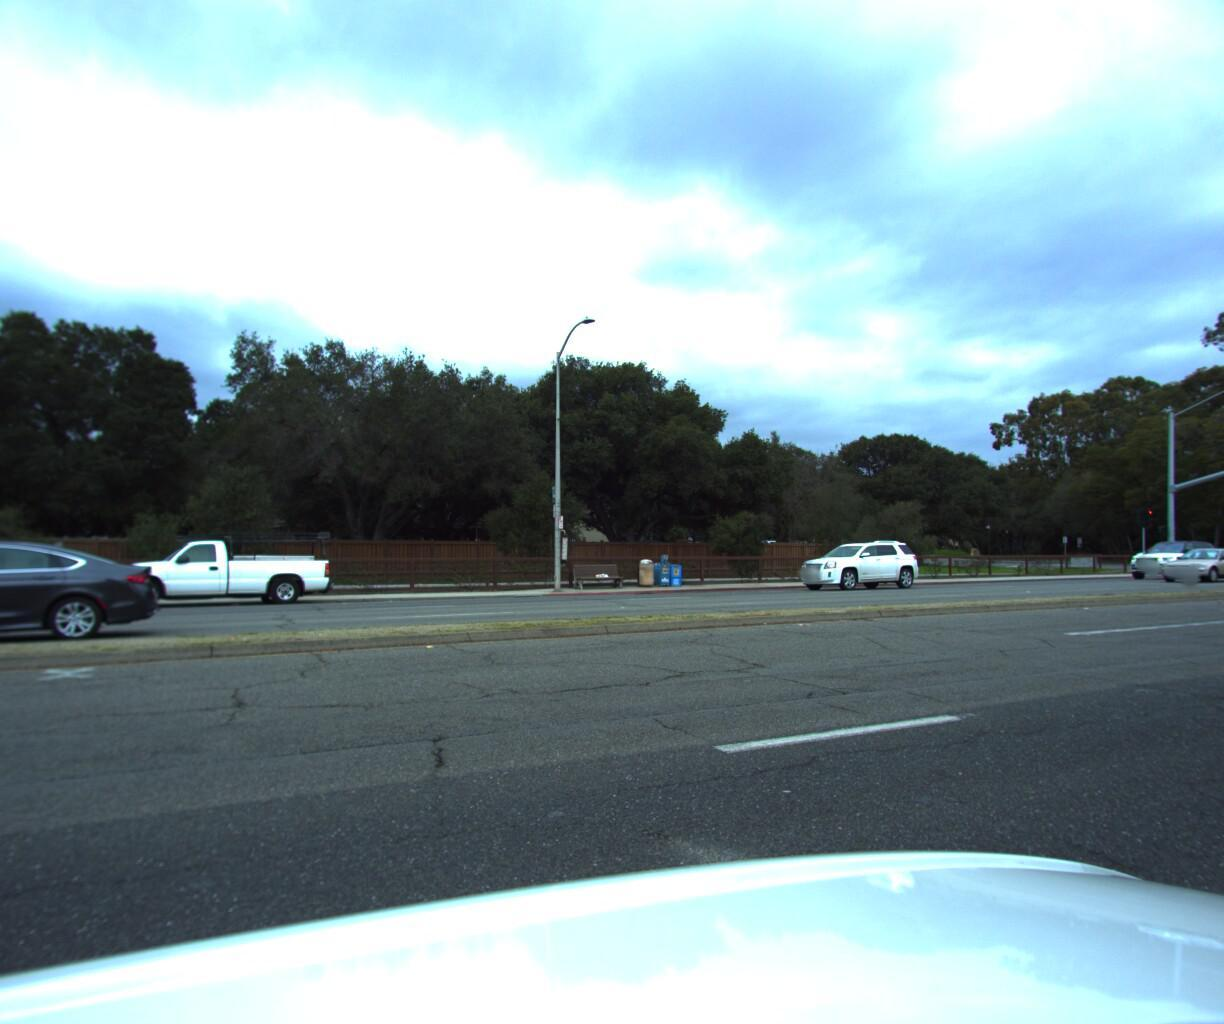car: (98, 528, 336, 609), (782, 532, 922, 588), (1113, 532, 1216, 573), (1149, 541, 1224, 579)
